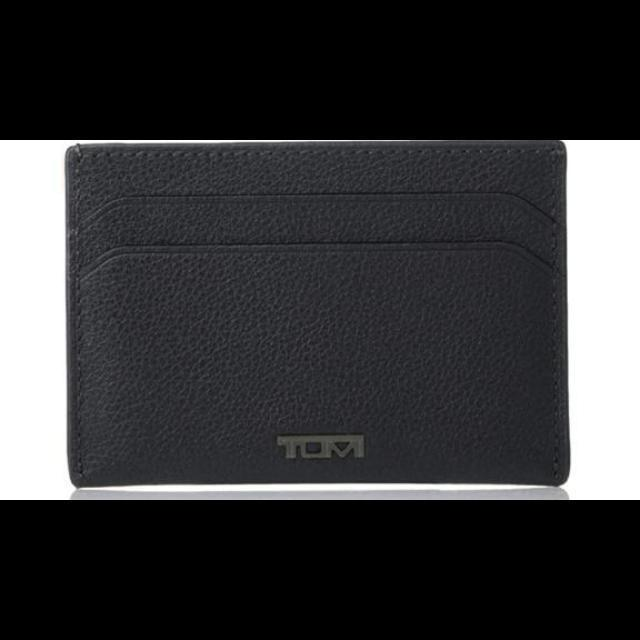wallet: (65, 142, 569, 486)
